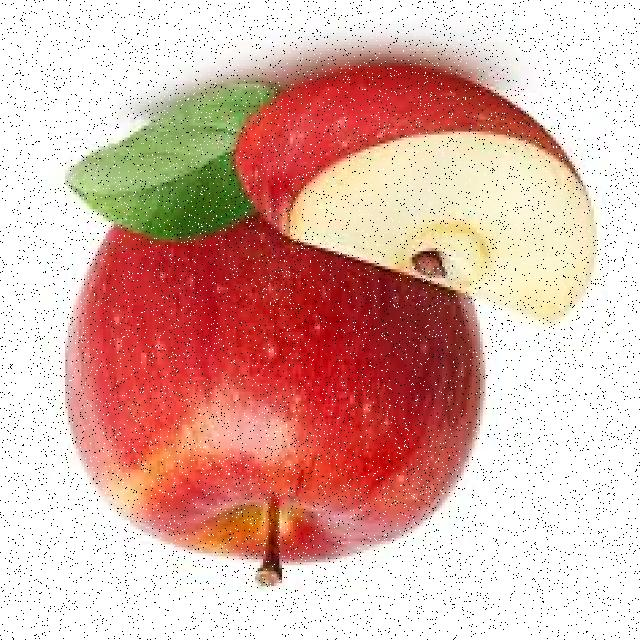Apple: (61, 219, 489, 576), (242, 86, 592, 313)
